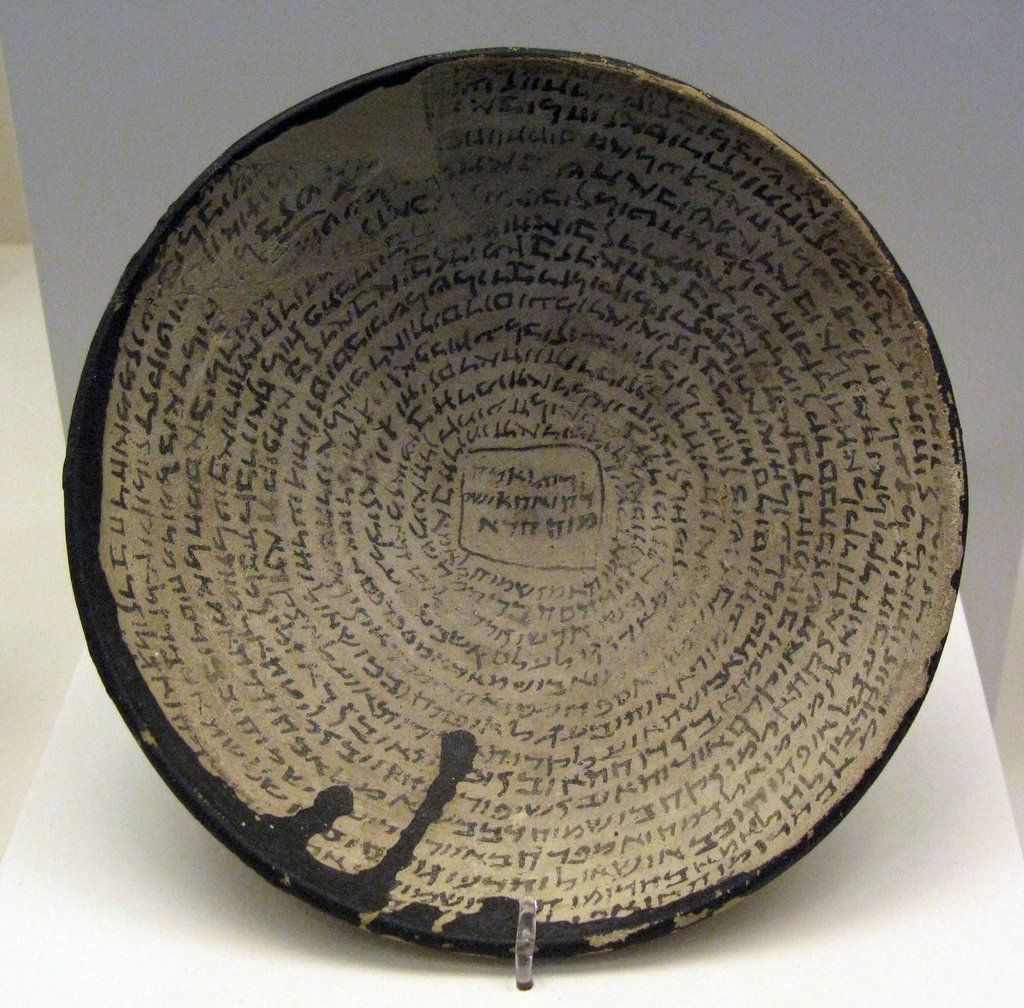plate: (62, 46, 968, 991)
